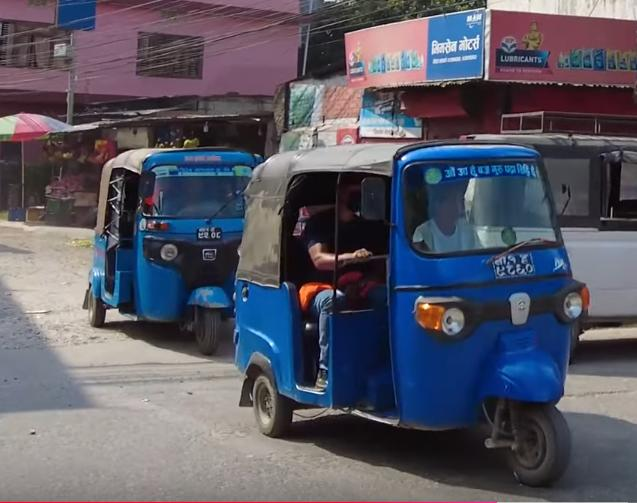auto_rickshaw: (226, 131, 576, 490), (79, 143, 263, 360)
